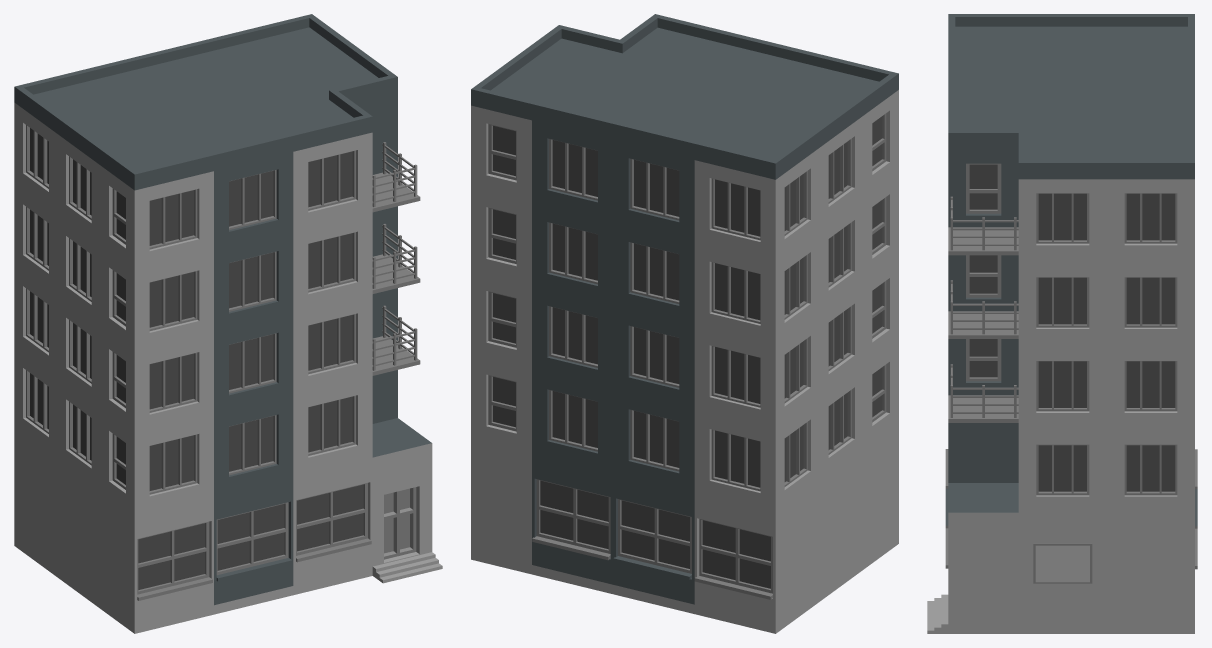
Rendered from Buiding_5.fbx.
The picture shows the model from 3 angles, left to right: view 1: azimuth 30°, elevation 25°; view 2: azimuth 150°, elevation 25°; view 3: azimuth 270°, elevation 25°; orthographic projection. The views are drawn at different scales.
Parts seen in each view (by area): view 1: Building_5; view 2: Building_5; view 3: Building_5.
Part boxes in pixels (<box>): Building_5: <box>14,14,442,633</box>; Building_5: <box>471,14,898,633</box>; Building_5: <box>927,14,1197,633</box>.
Size of the model in its own units: 5040 by 7378 by 3840.
